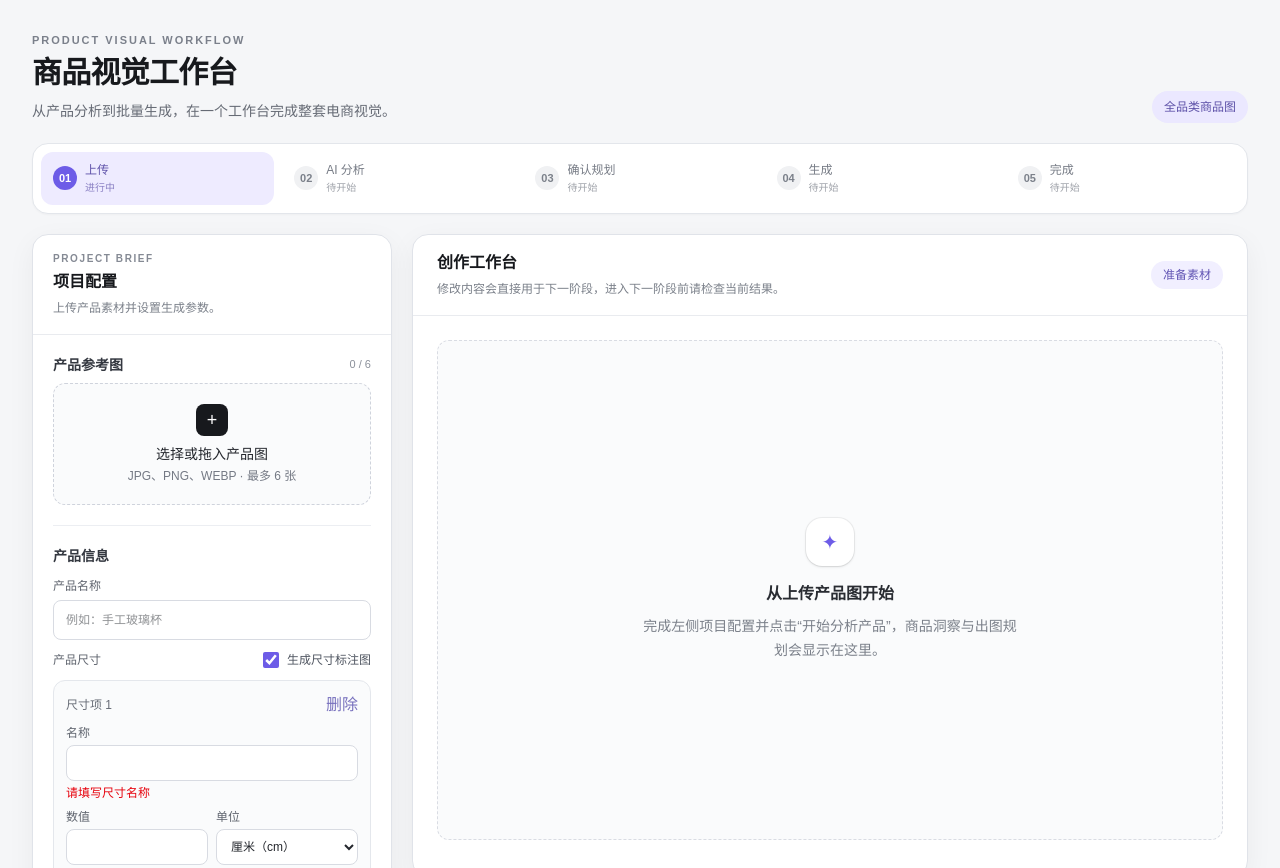
it: defaults dimension-image generation on and preserves entered dimensions when toggled
This screenshot has width=1280, height=868.
Expected: the checkbox labelled "生成尺寸标注图" is checked, top-left (263, 652), bottom-right (279, 668)
Type "杯高" into the field named "尺寸名称 1" at (212, 762), box top-left (66, 744), bottom-right (358, 780)
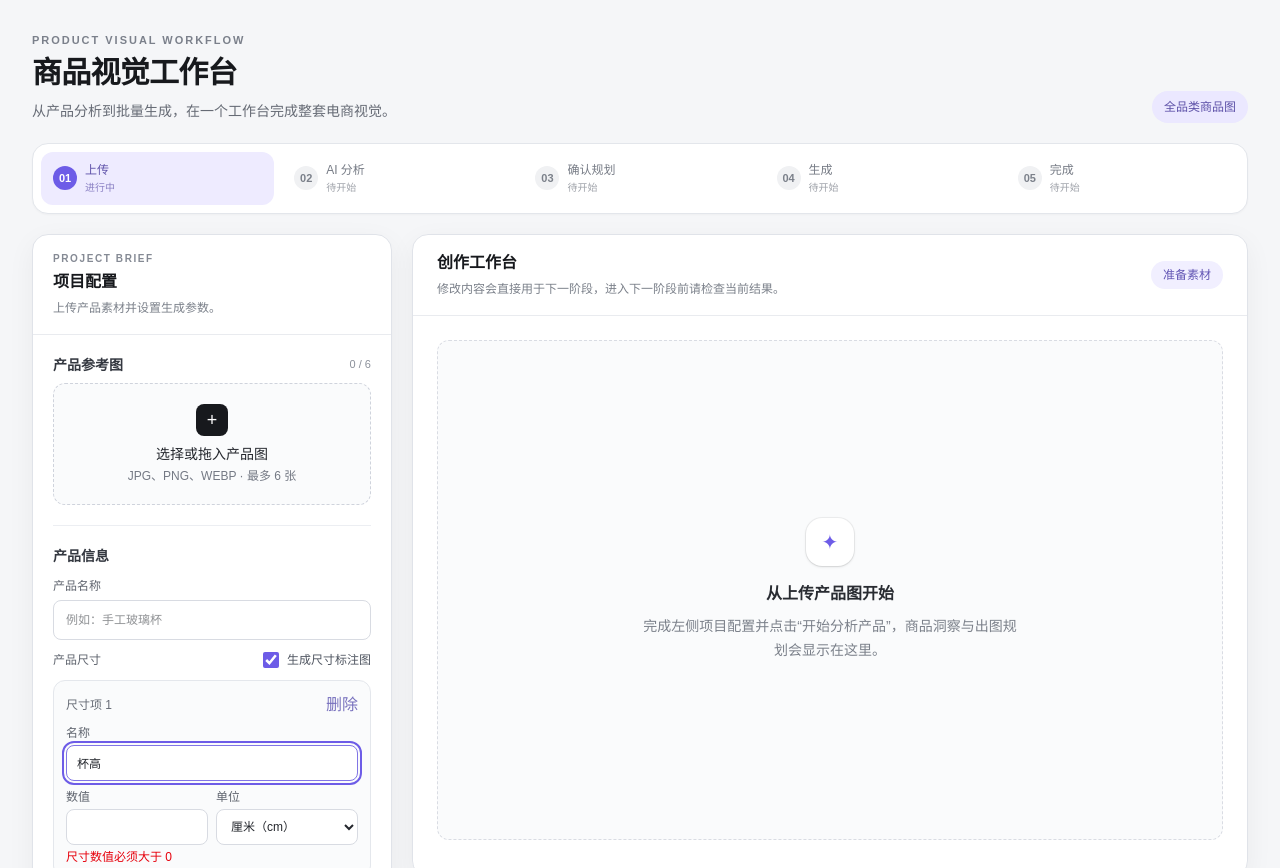
Type "12" into the number field named "尺寸数值 1" at (137, 826), box top-left (66, 808), bottom-right (208, 844)
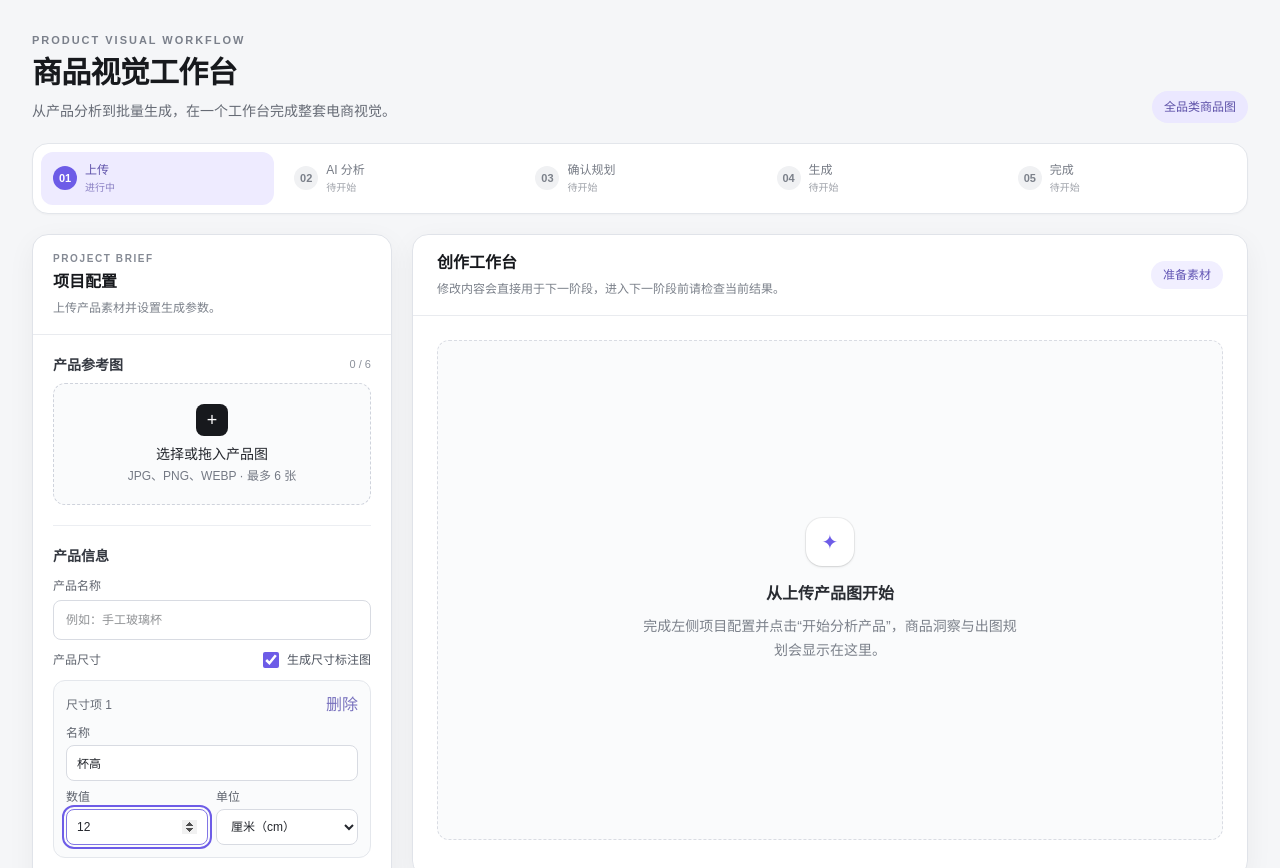
Click the checkbox labelled "生成尺寸标注图" at (271, 660), box top-left (263, 652), bottom-right (279, 668)
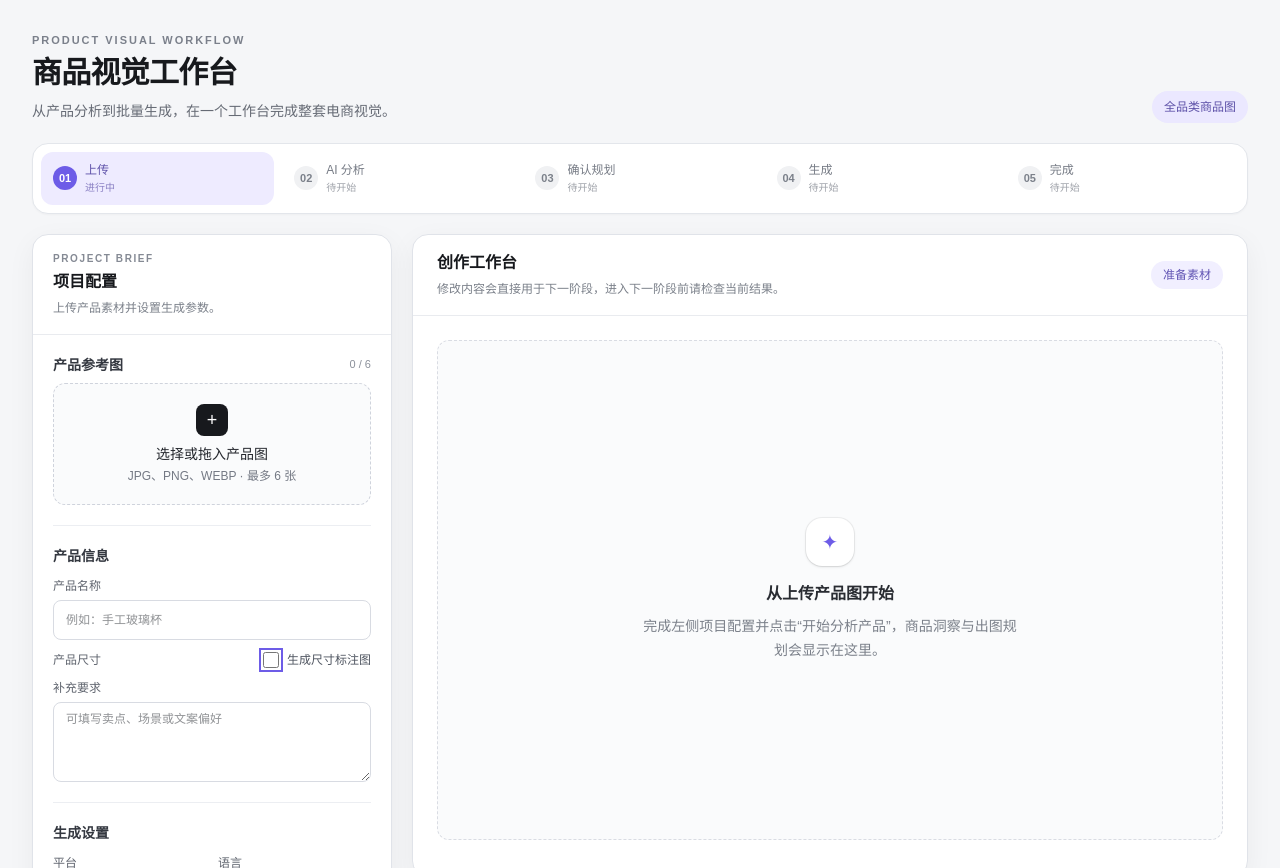
Click the checkbox labelled "生成尺寸标注图" at (271, 660), box top-left (263, 652), bottom-right (279, 668)
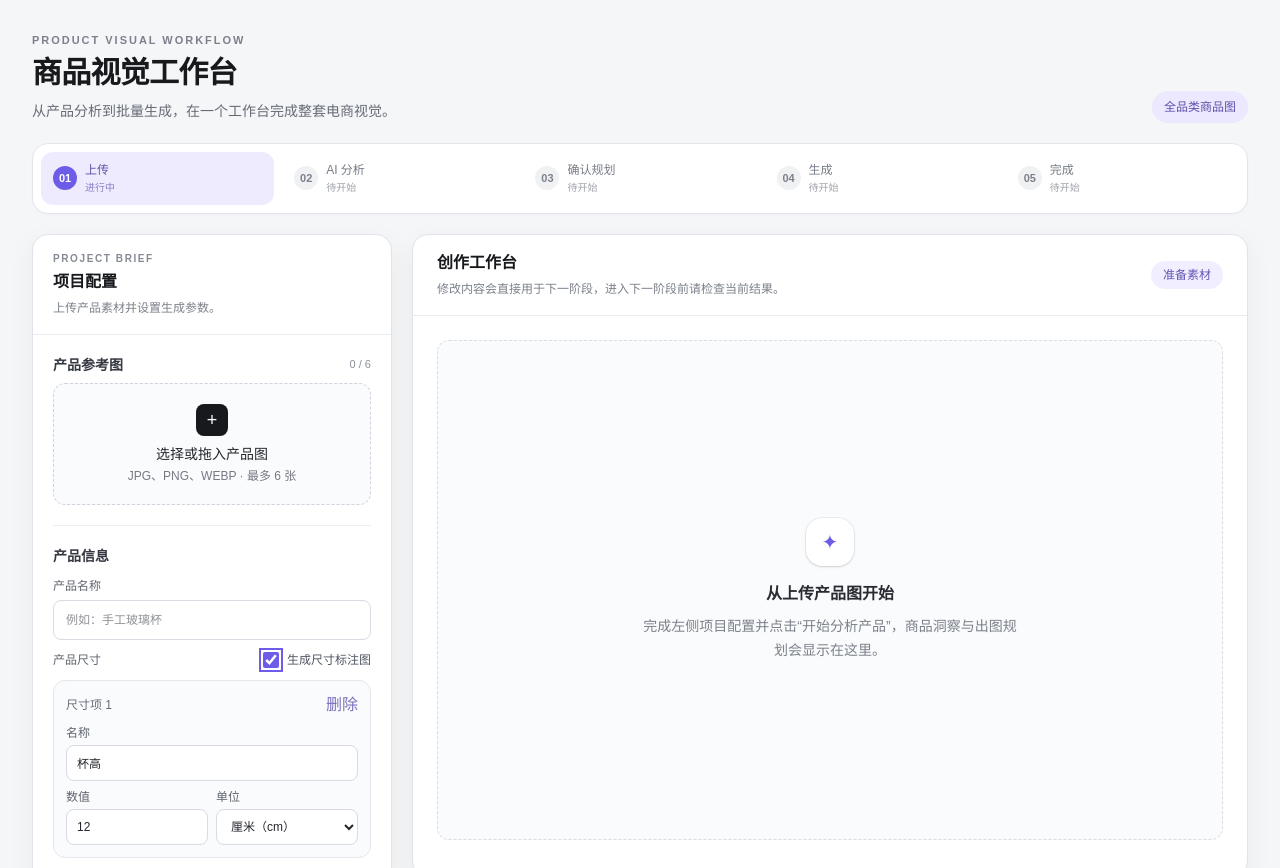
Expected: the field named "尺寸名称 1" holds "杯高", top-left (66, 744), bottom-right (358, 780)
Expected: the number field named "尺寸数值 1" holds "12", top-left (66, 808), bottom-right (208, 844)
